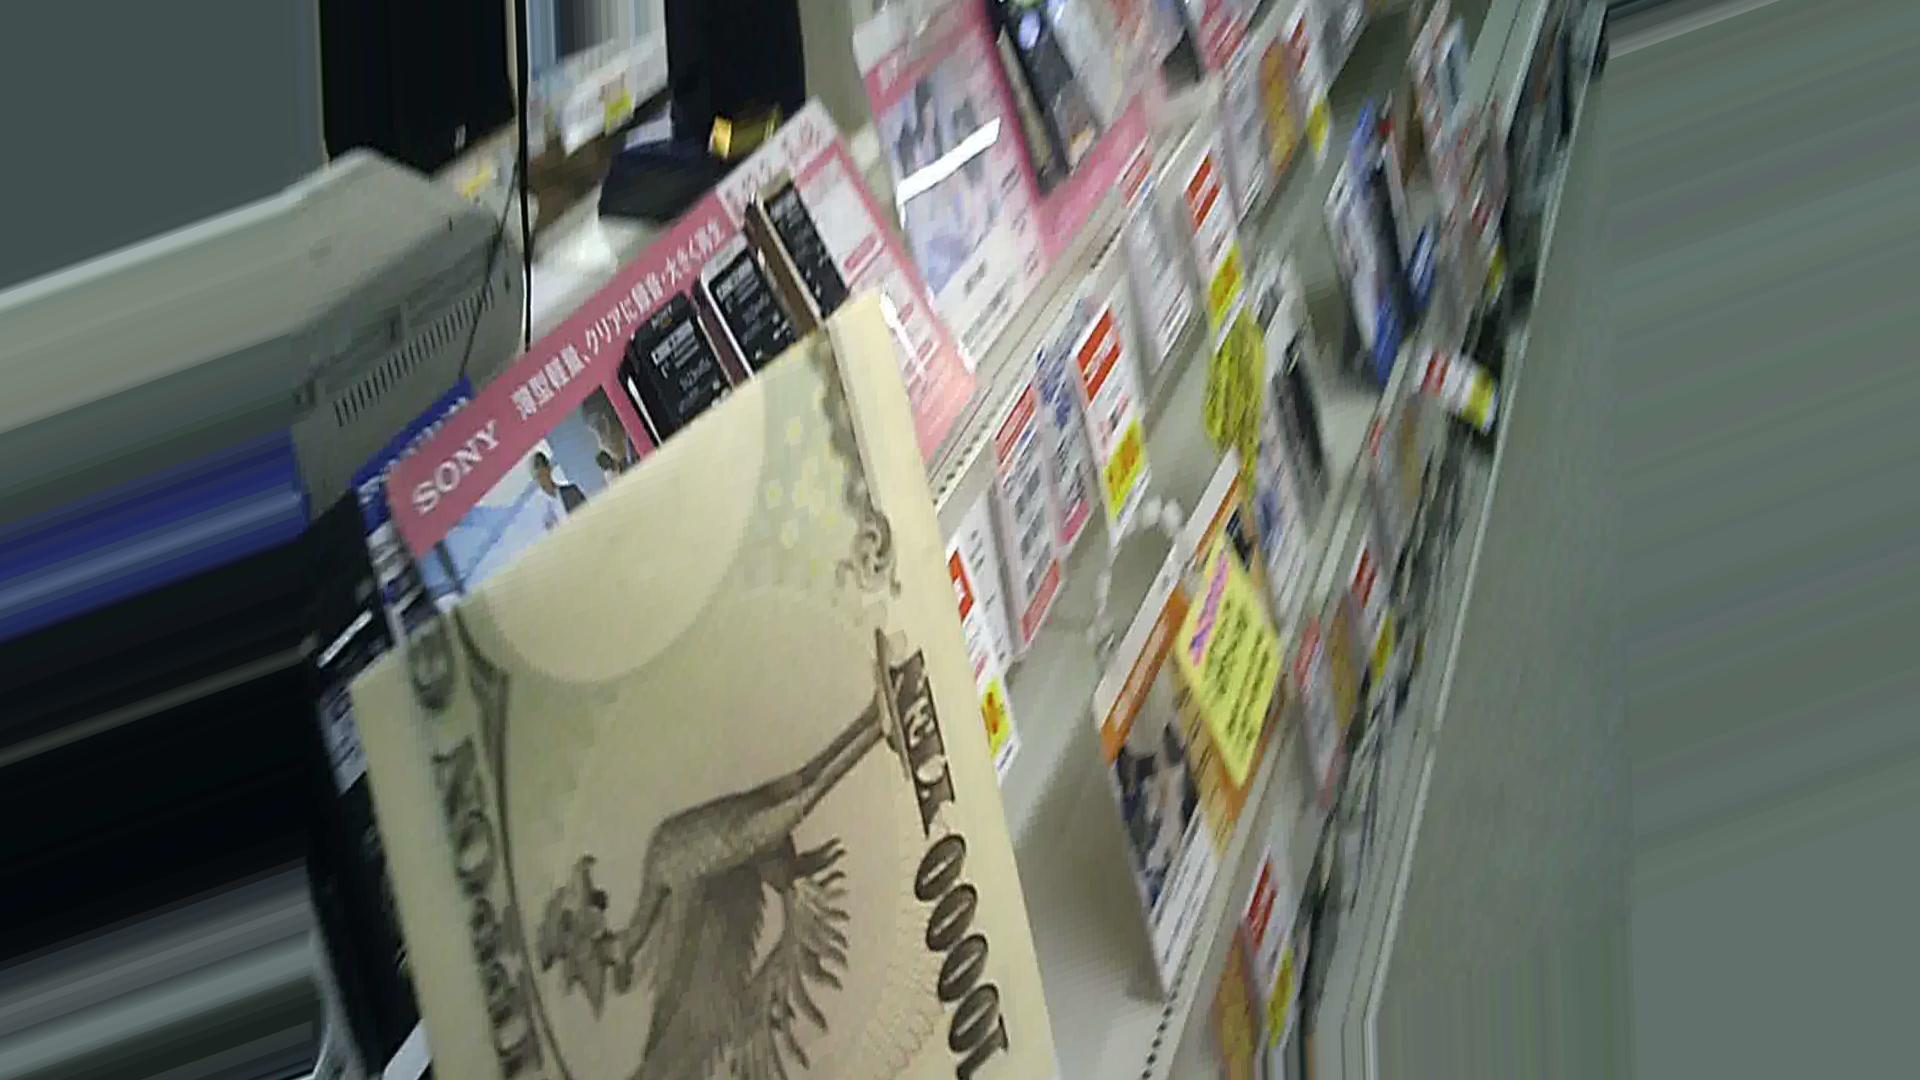10,000 Yen: (332, 324, 1054, 1079)
